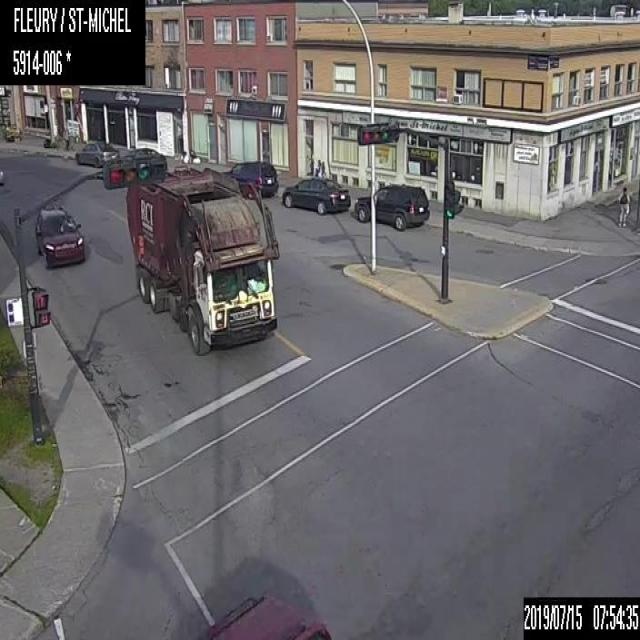pedestrian: (616, 185, 630, 227)
vehicle: (126, 162, 279, 355), (202, 592, 331, 639), (353, 183, 429, 230), (34, 204, 84, 267), (281, 176, 350, 213), (224, 160, 278, 198), (74, 140, 118, 167), (121, 147, 166, 170), (0, 169, 4, 186)
